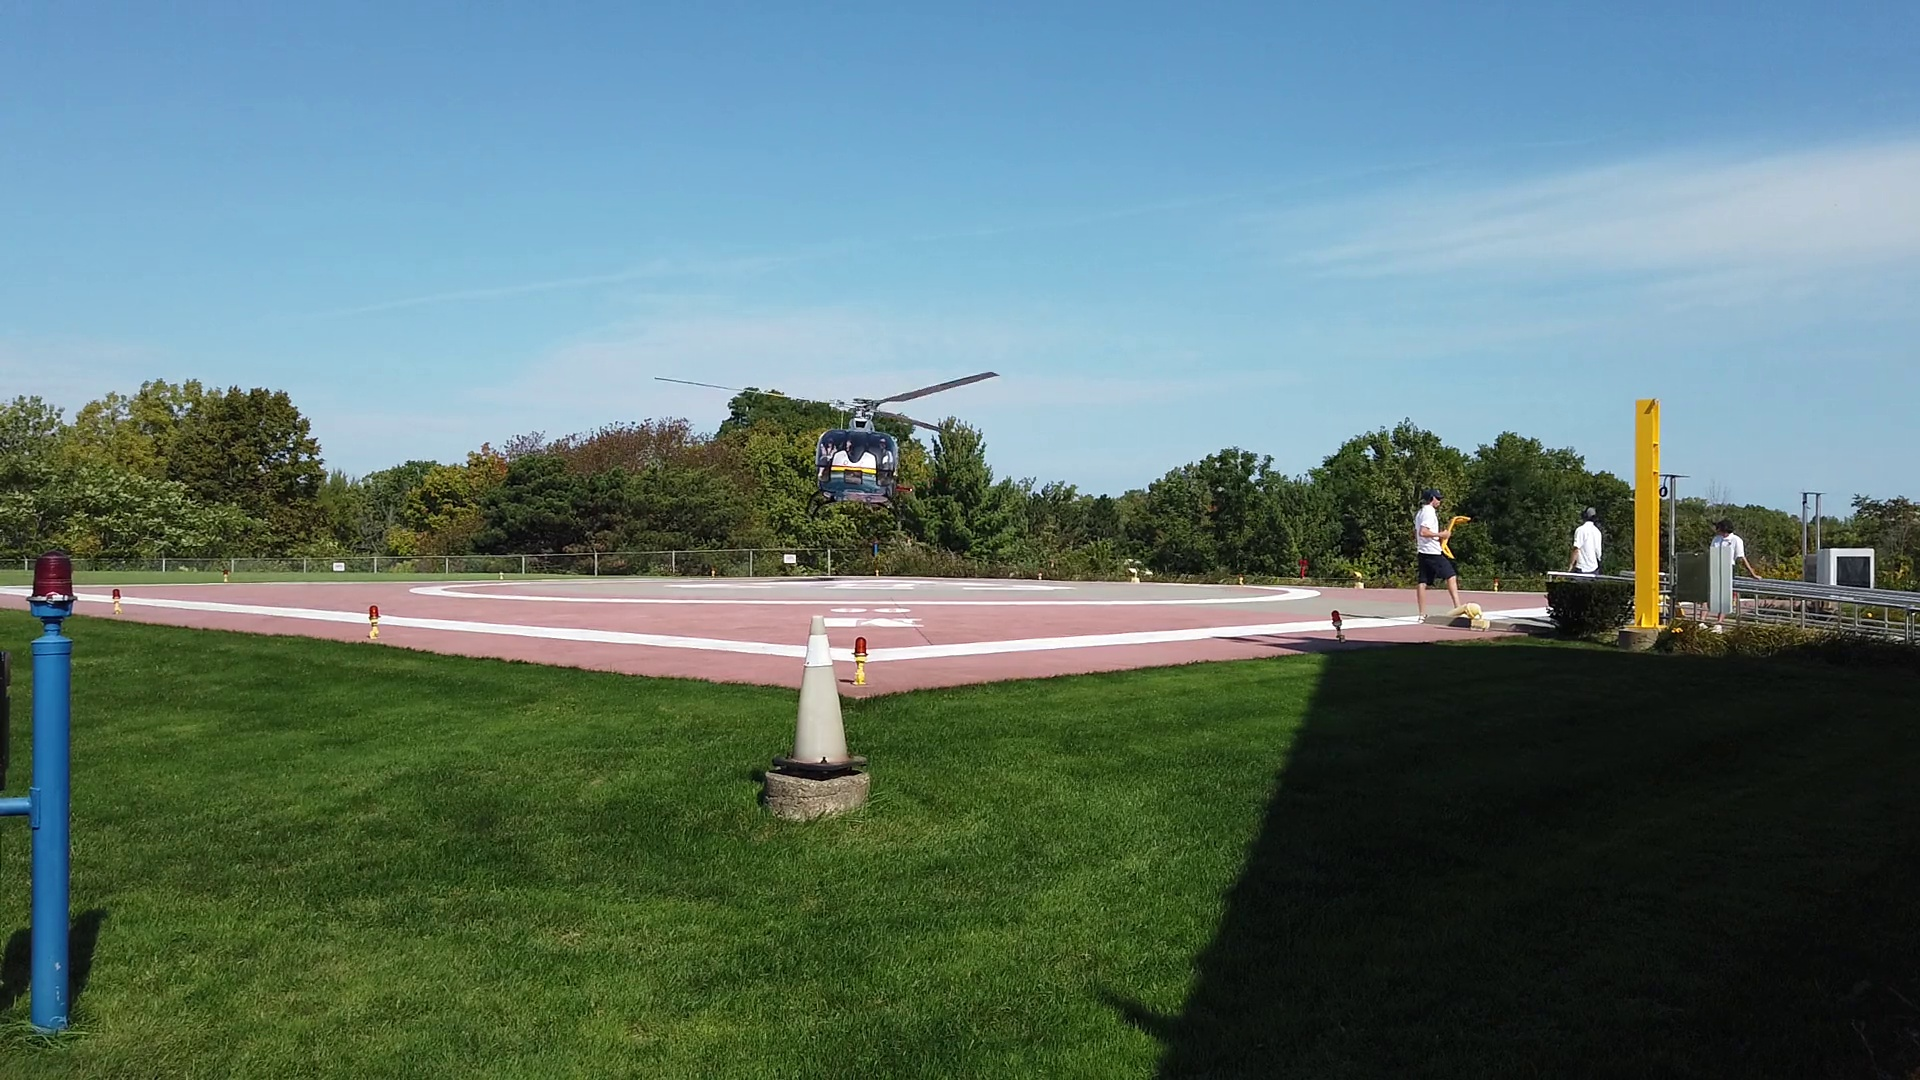heli: (651, 371, 996, 524)
